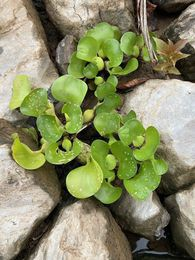water_hyacinth: (5, 12, 172, 202)
